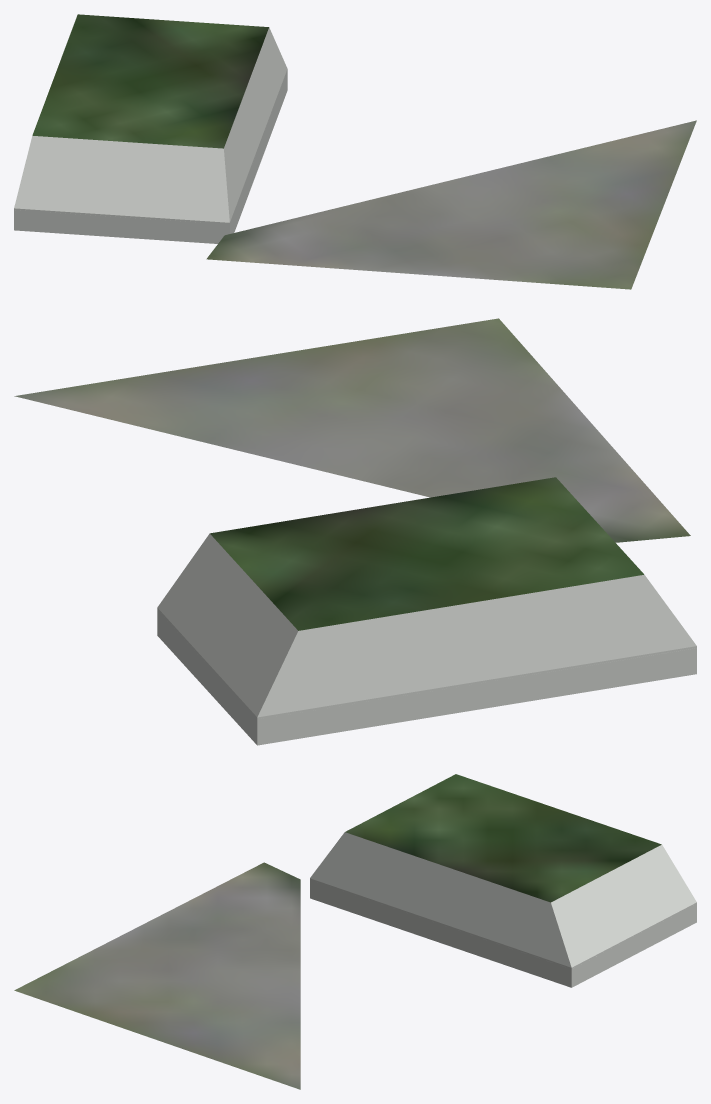
Rendered from LSMP_1_-1.glb.
3 renders of one model, top to bottom at view 1: azimuth 30°, elevation 25°; view 2: azimuth 150°, elevation 25°; view 3: azimuth 270°, elevation 25°, orthographic. The views are drawn at different scales.
Visible parts, largest first — view 1: building_5b8aad1951ae29bc, pavement_LSMP_pavement_5121_2375, building_39ae0f65fe0bb401; view 2: building_5b8aad1951ae29bc, pavement_LSMP_pavement_5121_2375, building_39ae0f65fe0bb401; view 3: building_5b8aad1951ae29bc, pavement_LSMP_pavement_5121_2375, building_39ae0f65fe0bb401.
Boxes of the visible parts, bbox=[...] form: building_5b8aad1951ae29bc: bbox=[14, 14, 287, 224]; pavement_LSMP_pavement_5121_2375: bbox=[206, 120, 696, 289]; building_39ae0f65fe0bb401: bbox=[14, 70, 287, 243]; building_5b8aad1951ae29bc: bbox=[157, 477, 696, 719]; pavement_LSMP_pavement_5121_2375: bbox=[14, 318, 690, 542]; building_39ae0f65fe0bb401: bbox=[157, 610, 696, 745]; building_5b8aad1951ae29bc: bbox=[310, 774, 696, 969]; pavement_LSMP_pavement_5121_2375: bbox=[14, 862, 300, 1089]; building_39ae0f65fe0bb401: bbox=[310, 880, 696, 987].
Bounding box in the file's own units: 77.08 × 9.56 × 82.07.
3 materials, 2 textured.
